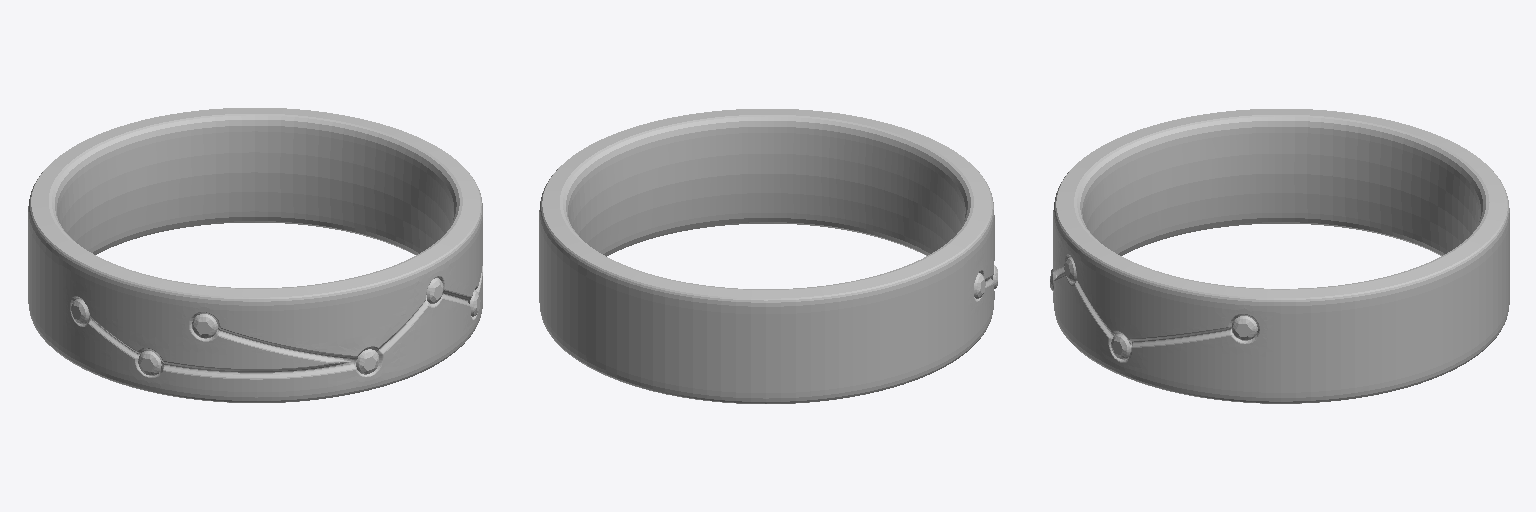
Rendered from jiezhi002.obj.
3 renders of one model, left to right at view 1: azimuth 30°, elevation 25°; view 2: azimuth 150°, elevation 25°; view 3: azimuth 270°, elevation 25°, orthographic.
Visible parts, largest first — view 1: JieQuan, ZuanShi, Group1; view 2: JieQuan; view 3: JieQuan, ZuanShi.
Boxes of the visible parts, x1=… form: JieQuan: x1=28, y1=108, x2=482, y2=402; ZuanShi: x1=71, y1=278, x2=480, y2=375; Group1: x1=71, y1=278, x2=480, y2=375; JieQuan: x1=539, y1=109, x2=994, y2=403; JieQuan: x1=1053, y1=109, x2=1509, y2=403; ZuanShi: x1=1050, y1=257, x2=1257, y2=359.
Size of the model in its own units: 34.92 by 9.09 by 35.05.